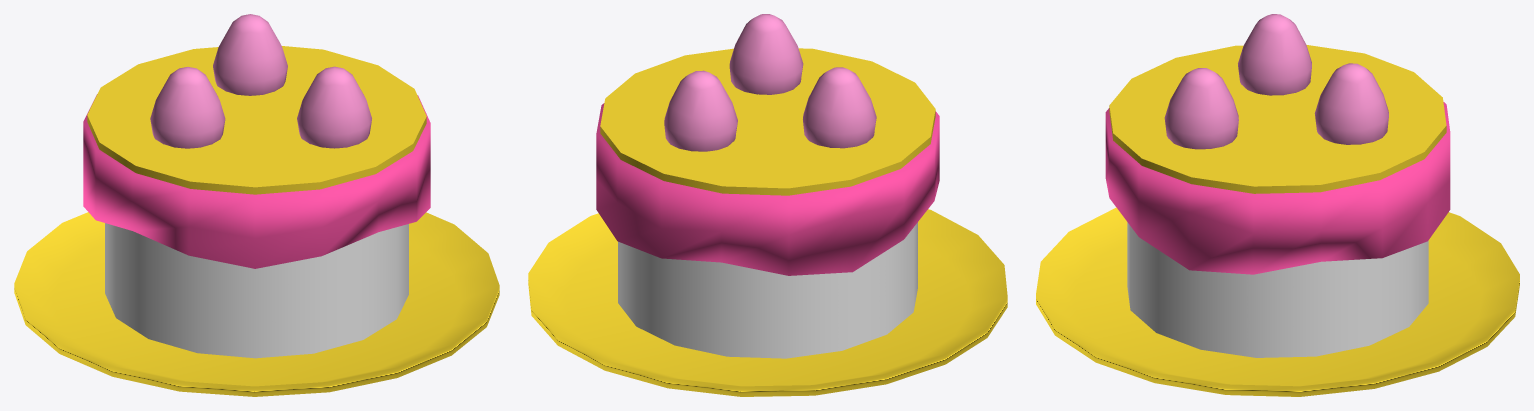
File: ToyObject_164.fbx
3 views of the same model, side by side, from view 1: azimuth 30°, elevation 25°; view 2: azimuth 150°, elevation 25°; view 3: azimuth 270°, elevation 25° (orthographic).
Parts seen in each view (by area): view 1: object-1.065; view 2: object-1.065; view 3: object-1.065.
Boxes of the visible parts, x1,y1,x2,y2 form: object-1.065: (14,14,499,396); object-1.065: (528,14,1007,396); object-1.065: (1036,14,1519,396).
Bounding box in the file's own units: 0.1432 × 0.085 × 0.1432.
